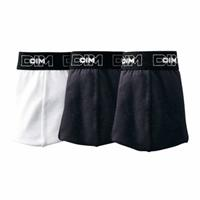mutande: (112, 50, 187, 150), (58, 50, 120, 145), (10, 51, 70, 146)
